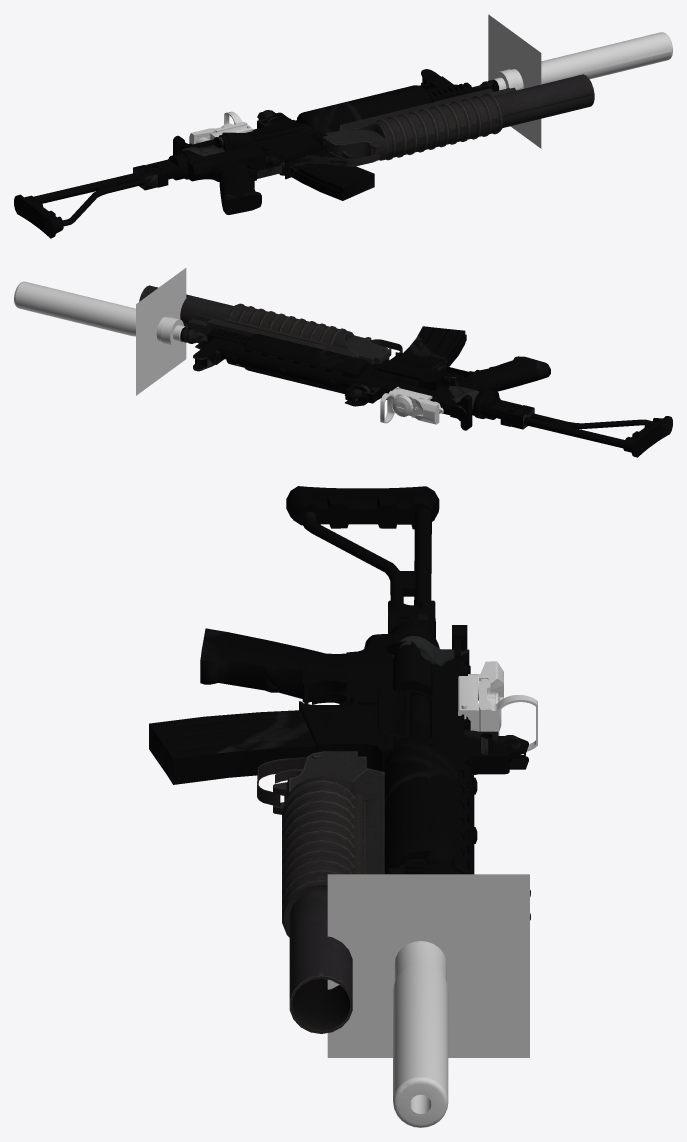
3 renders of one model, top to bottom at view 1: azimuth 30°, elevation 25°; view 2: azimuth 150°, elevation 25°; view 3: azimuth 270°, elevation 25°, orthographic. The views are drawn at different scales.
Visible parts, largest first — view 1: gunModel, objMesh1.003, silencer_objMesh3.003, flashModel, ammoModel, objMesh4, defaultScopeModel; view 2: gunModel, objMesh1.003, silencer_objMesh3.003, flashModel, objMesh4, ammoModel, defaultScopeModel, slideModel; view 3: gunModel, flashModel, objMesh1.003, silencer_objMesh3.003, ammoModel, objMesh4, defaultScopeModel.
Boxes of the visible parts, box(x1,y1,x2,y2) form: gunModel: box(14, 79, 498, 238); objMesh1.003: box(323, 74, 594, 166); silencer_objMesh3.003: box(493, 32, 672, 90); flashModel: box(488, 14, 541, 148); ammoModel: box(288, 149, 374, 200); objMesh4: box(189, 111, 252, 144); defaultScopeModel: box(257, 69, 445, 128); gunModel: box(180, 327, 672, 457); objMesh1.003: box(139, 285, 402, 364); silencer_objMesh3.003: box(14, 281, 185, 346); flashModel: box(136, 268, 186, 395); objMesh4: box(380, 386, 443, 424); ammoModel: box(403, 326, 466, 366); defaultScopeModel: box(193, 345, 381, 406); slideModel: box(372, 370, 418, 386); gunModel: box(200, 486, 477, 874); flashModel: box(327, 874, 529, 1057); objMesh1.003: box(257, 751, 384, 1033); silencer_objMesh3.003: box(393, 941, 448, 1127); ammoModel: box(149, 710, 316, 784); objMesh4: box(458, 661, 537, 751); defaultScopeModel: box(464, 730, 530, 920).
Size of the model in its own units: 31.23 by 4.42 by 8.49.
